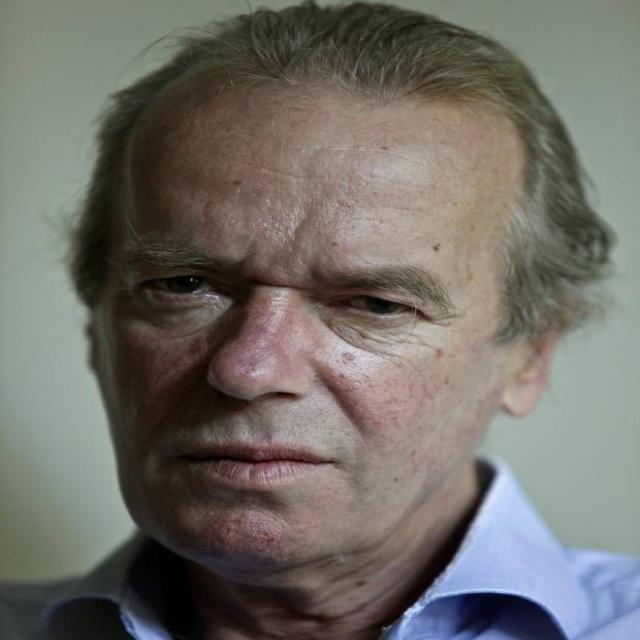front: (93, 184, 485, 557)
